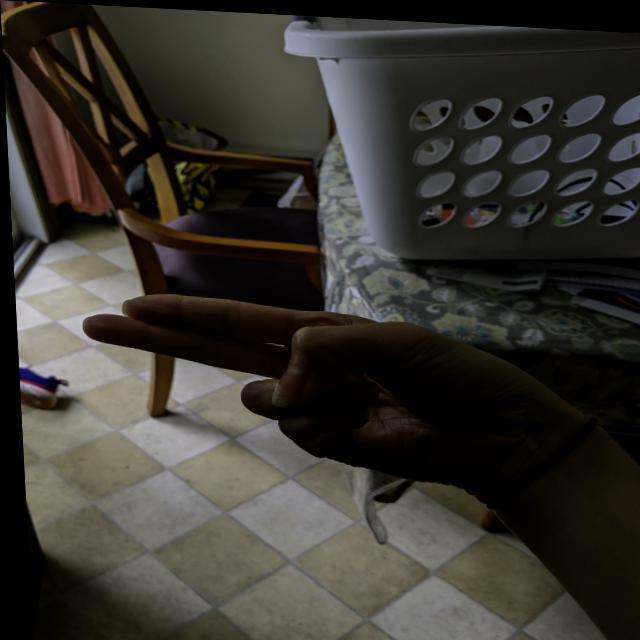H: (69, 280, 574, 495)
